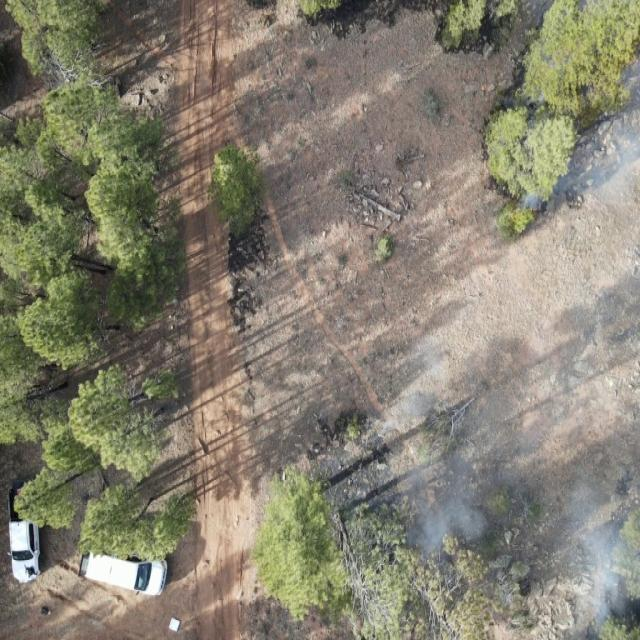smoke: (337, 337, 640, 640), (521, 38, 640, 214)
